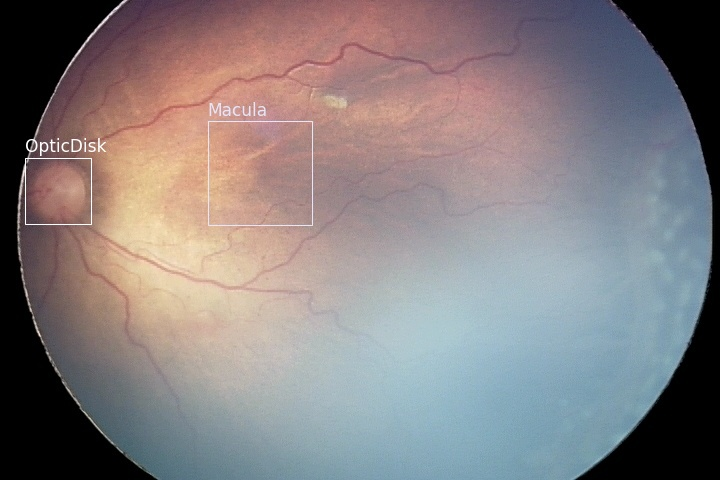Macula: (207, 120, 311, 224)
OpticDisk: (24, 157, 90, 223)
